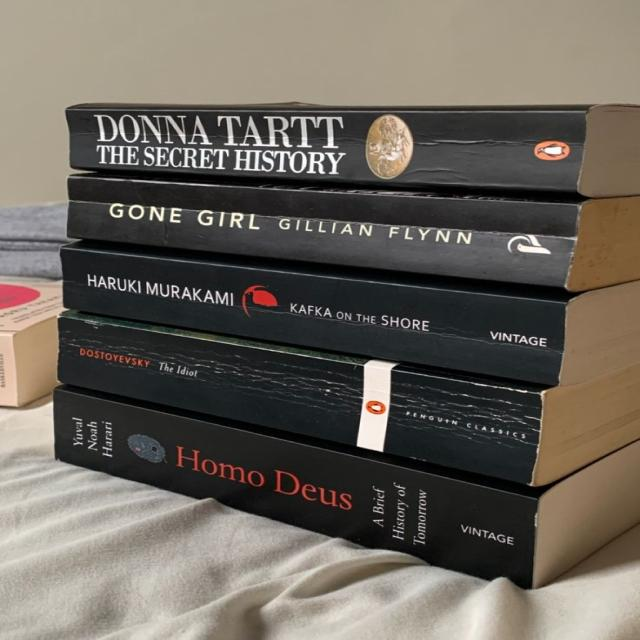book: (55, 388, 544, 587), (58, 311, 543, 485), (62, 241, 579, 386), (69, 174, 639, 290), (66, 104, 639, 197)
